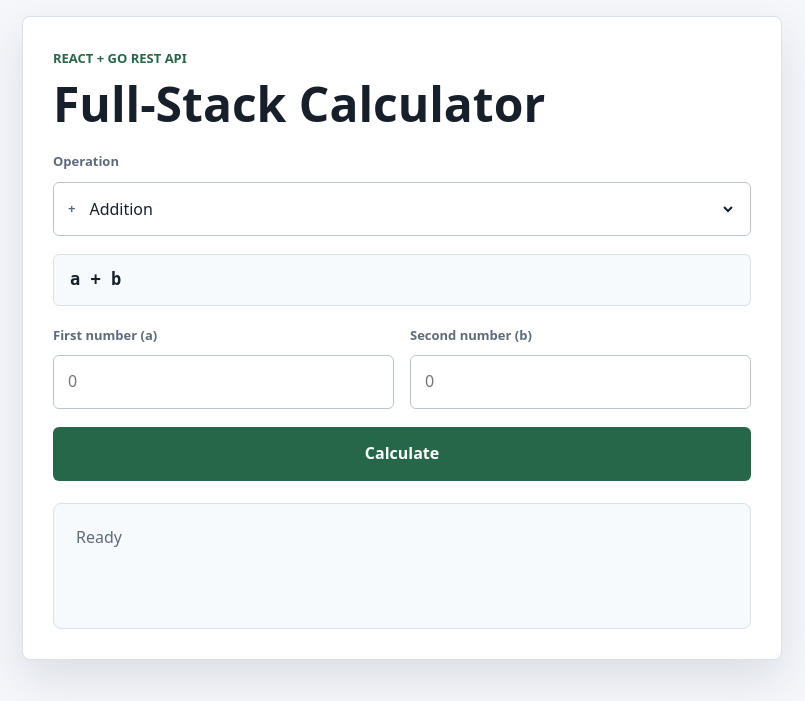
App › updates labels and preview for square root operations
Select "Square root" in the dropdown labelled "Operation +" at (411, 209), box [85,184,736,234]
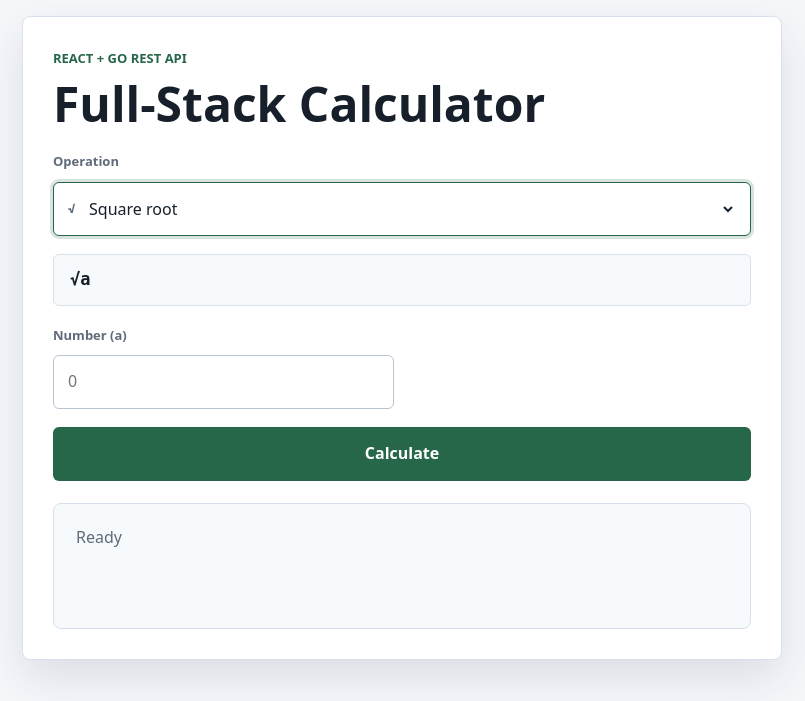
Check: the number field labelled "Number (a)" is shown, box [53,355,394,409]
Check: the text "√a" is shown, box [70,268,90,291]
Check: the text labelled "Second number (b)" is gone
